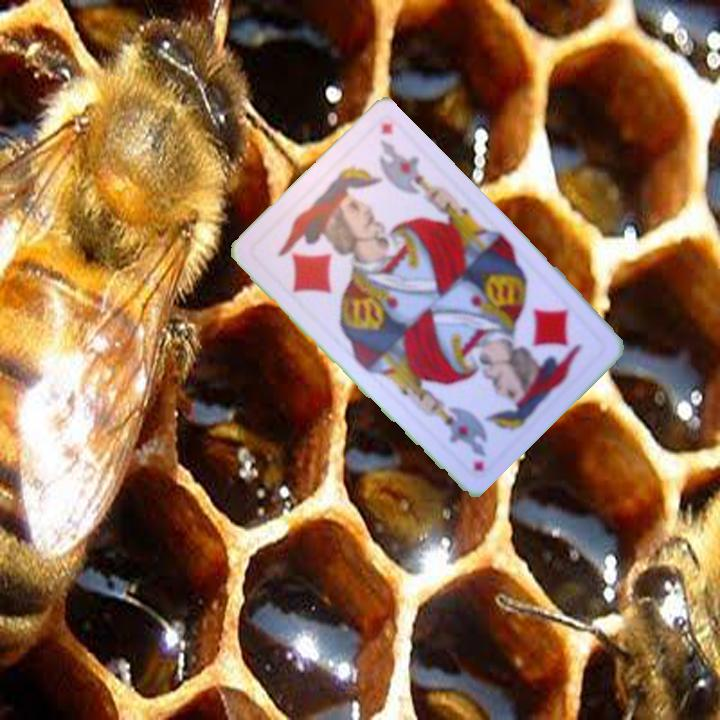d_j.png: (480, 285, 609, 414), (248, 182, 377, 311)
